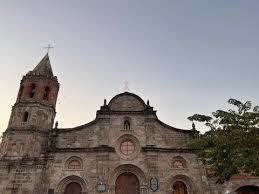barasoain_church_malolos_bulacan: (1, 42, 211, 194)
